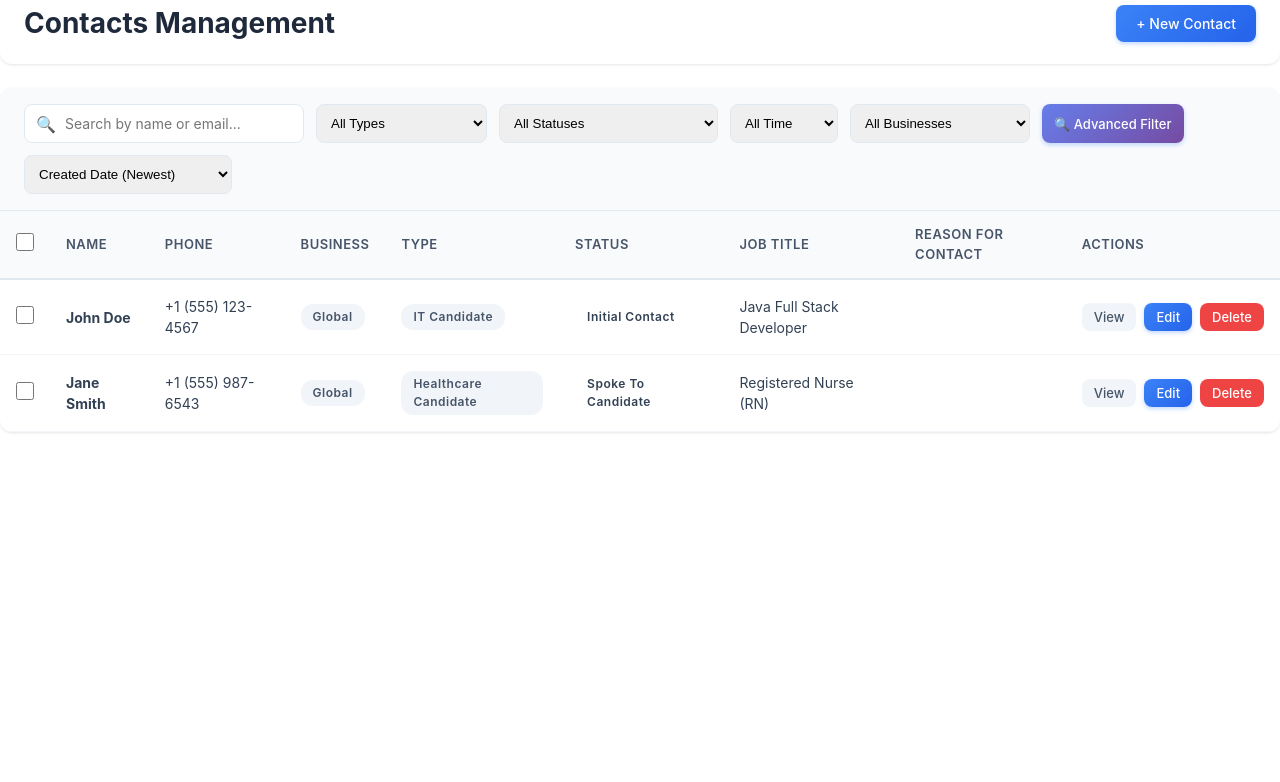
Scenario: ContactsManager Search and Filter › should keep table visible when Advanced Filter Builder is shown
Expected: the text "John Doe" is shown, [66,308,131,326]
Expected: the text "Jane Smith" is shown, [66,374,106,412]
// Open Advanced Filter
Click the button "🔍 Advanced Filter" at x=1113, y=124, box [1042,104,1184,143]
(page scrolled)
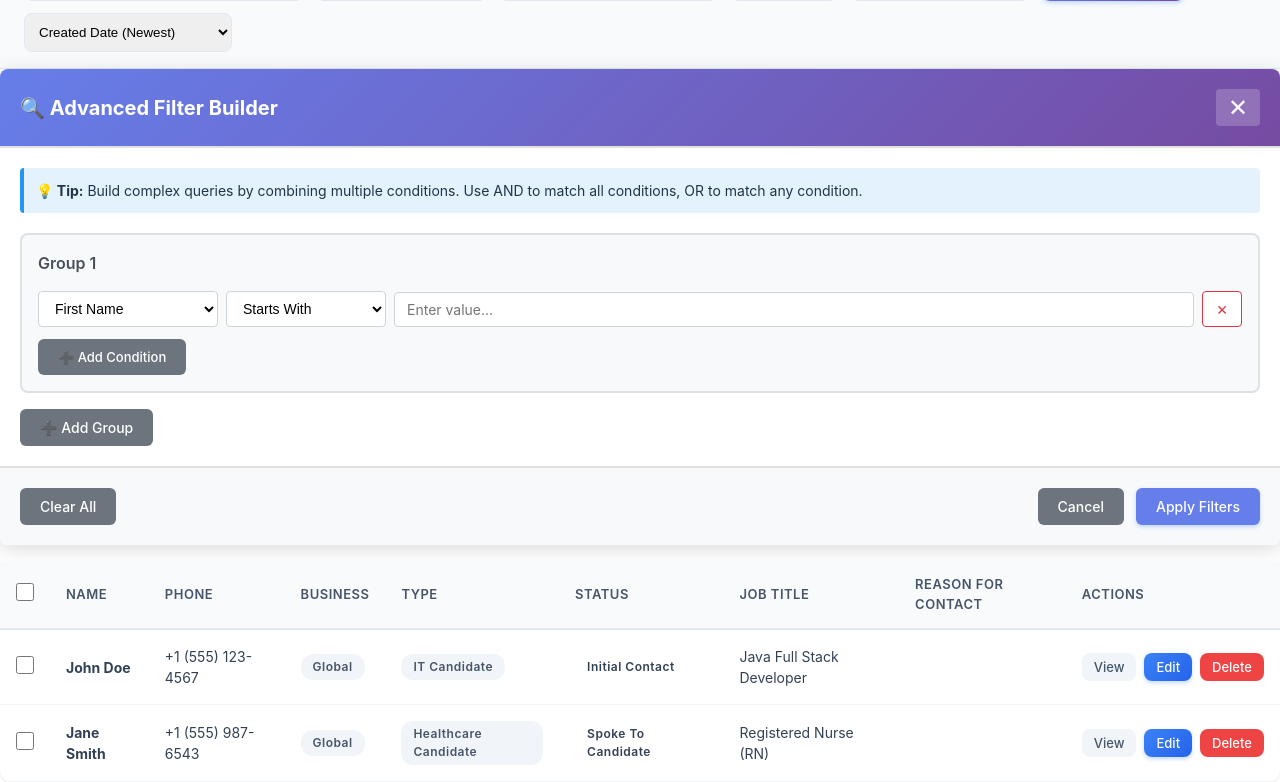
Expected: the text "John Doe" is shown, [66,658,131,676]
Expected: the heading "🔍 Advanced Filter Builder" is shown, [20,92,278,122]
